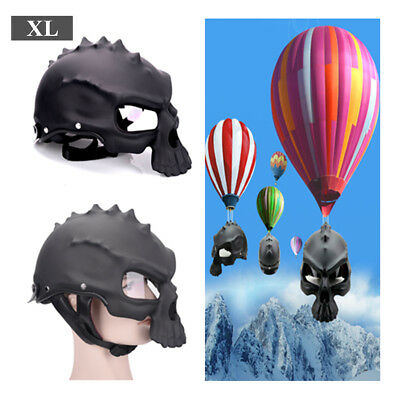with_helmet: (23, 201, 193, 352), (26, 38, 193, 176), (210, 221, 249, 267), (259, 233, 282, 276)
